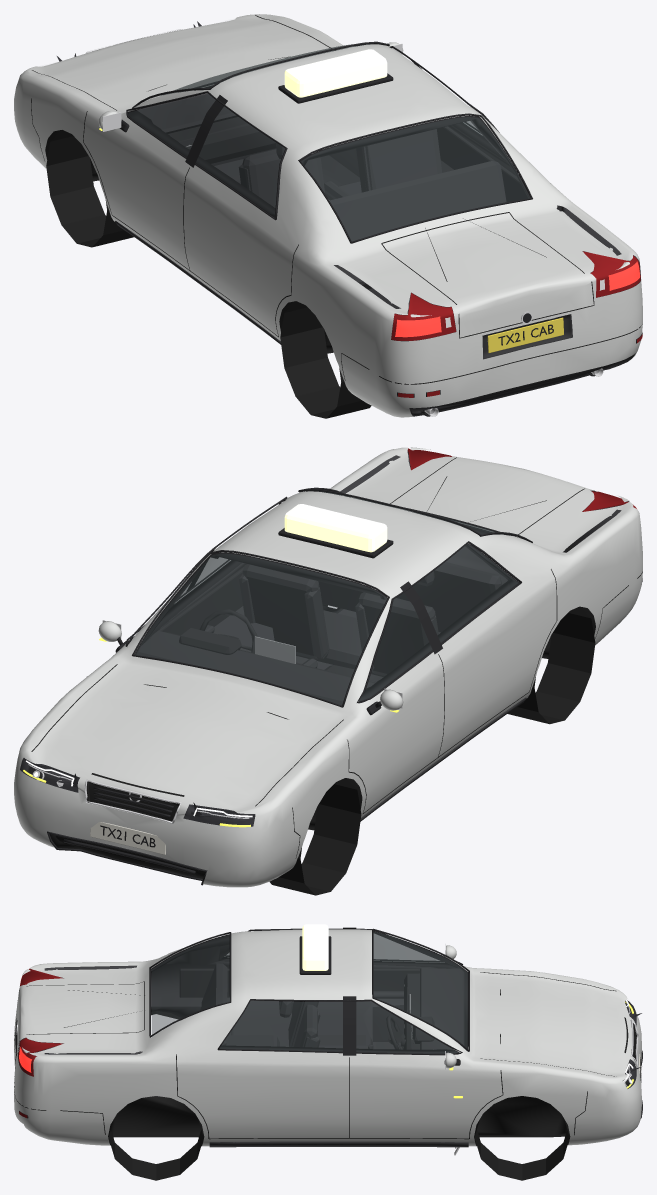
Rendered from civ_taxi.glb.
3 views of the same model, one above another, from view 1: azimuth 30°, elevation 25°; view 2: azimuth 150°, elevation 25°; view 3: azimuth 270°, elevation 25° (orthographic). The views are drawn at different scales.
Visible parts, largest first — view 1: civ_taxi; view 2: civ_taxi; view 3: civ_taxi.
Boxes of the visible parts, x1,y1,x2,y2 form: civ_taxi: [14, 14, 642, 418]; civ_taxi: [14, 447, 642, 895]; civ_taxi: [14, 924, 642, 1180].
Bounding box in the file's own units: 2.08 × 1.62 × 4.79.
